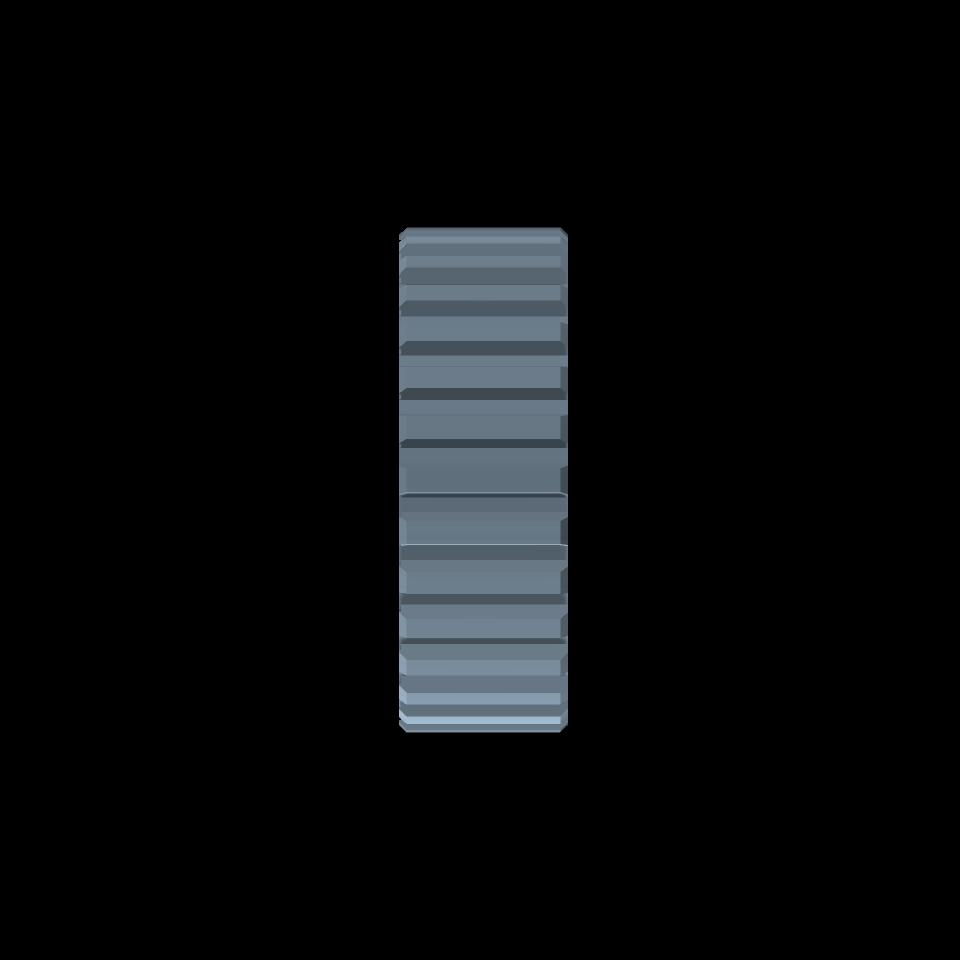Straight: (406, 227, 559, 732)
